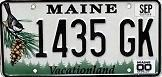placa de veiculo: (2, 1, 159, 74)
